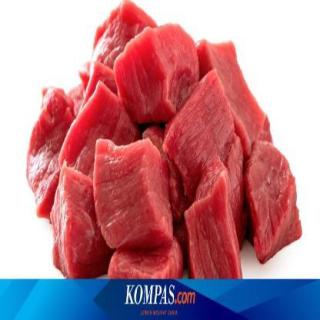Daging Sapi: (30, 3, 306, 279), (201, 35, 274, 157), (163, 69, 234, 188), (96, 144, 173, 248), (115, 23, 199, 117), (249, 143, 304, 264), (186, 167, 243, 279), (64, 90, 134, 180), (26, 87, 78, 200), (51, 171, 105, 274), (112, 246, 183, 281)
